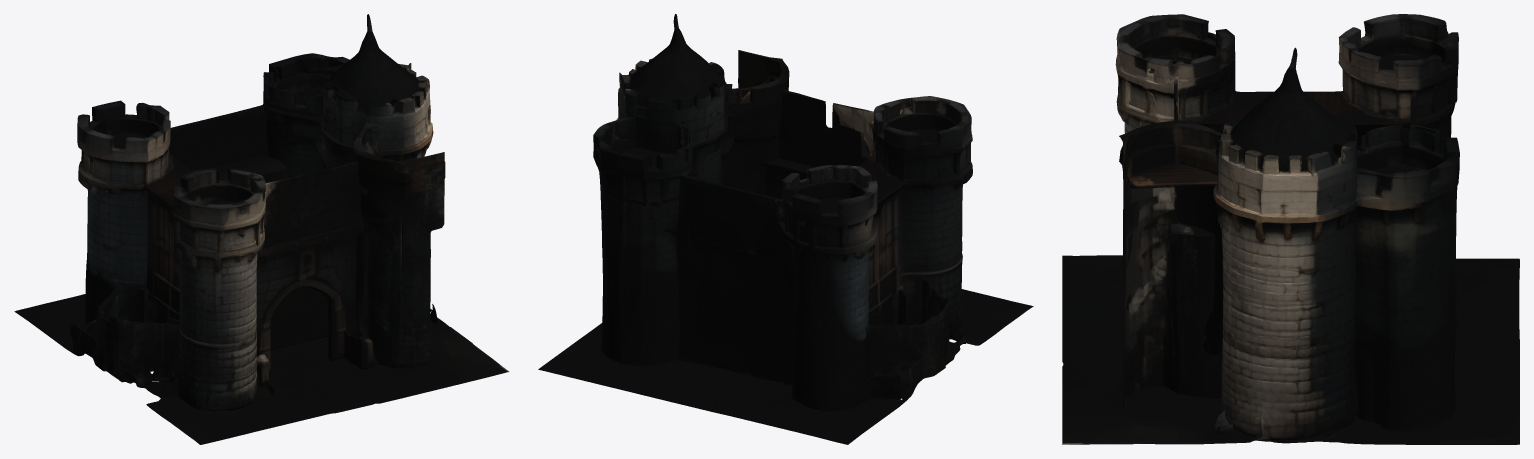
The model's file is sample (28).glb.
3 views of the same model, side by side, from view 1: azimuth 30°, elevation 25°; view 2: azimuth 150°, elevation 25°; view 3: azimuth 270°, elevation 25° (orthographic). The views are drawn at different scales.
Visible parts, largest first — view 1: world; view 2: world; view 3: world.
Part boxes in pixels (bbox=[...]): world: bbox=[14, 14, 509, 444]; world: bbox=[538, 14, 1033, 444]; world: bbox=[1062, 14, 1519, 444].
Size of the model in its own units: 0.996 by 0.8919 by 1.
Materials: 1 (1 with a texture image).
